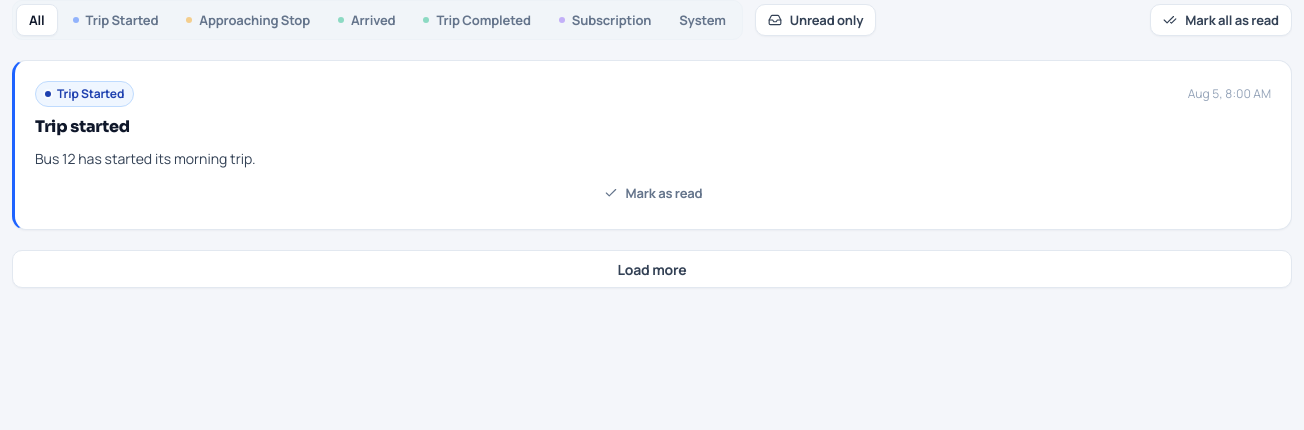
Test: NotificationsPage › shows a Load more button when another page exists, and fetches it on click
Click the button "Load more": click(652, 270) [12,250,1292,288]
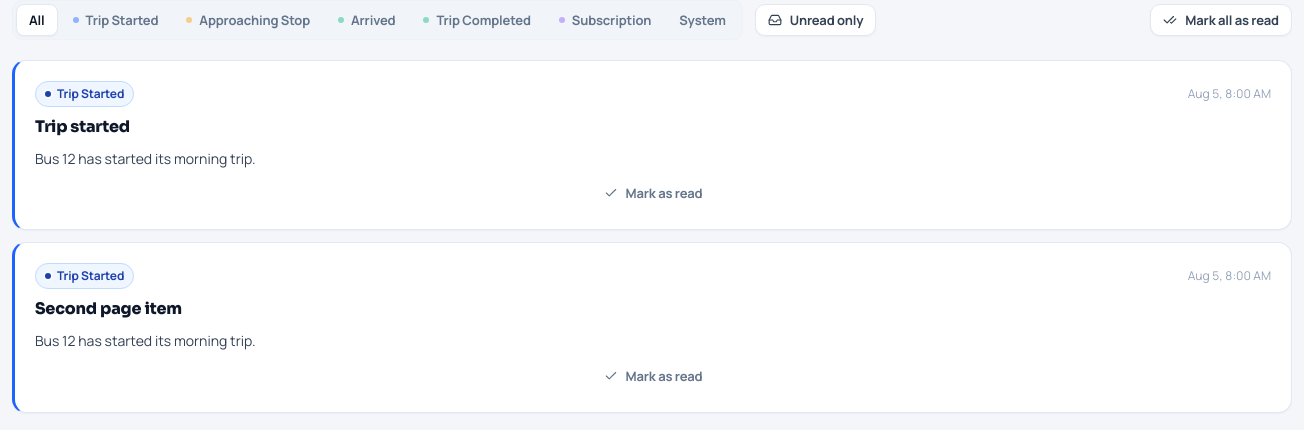
Result: the text "Second page item" is shown at [35,298,182,320]
